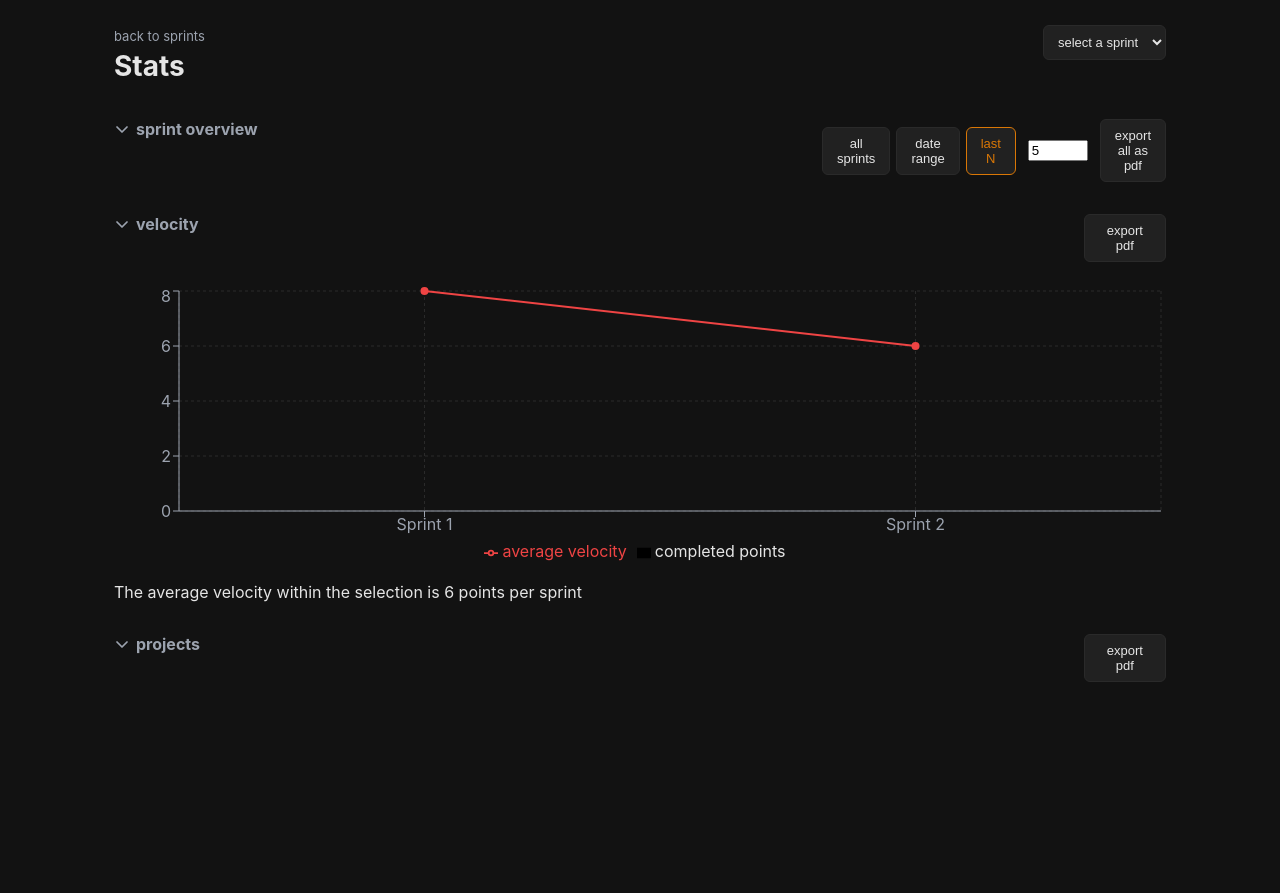
Test: stats page › wires fetched sprint stats and complexity data into sections
Select "Sprint 1" in the dropdown: (1104, 42) [1043,25,1166,60]
(page scrolled)
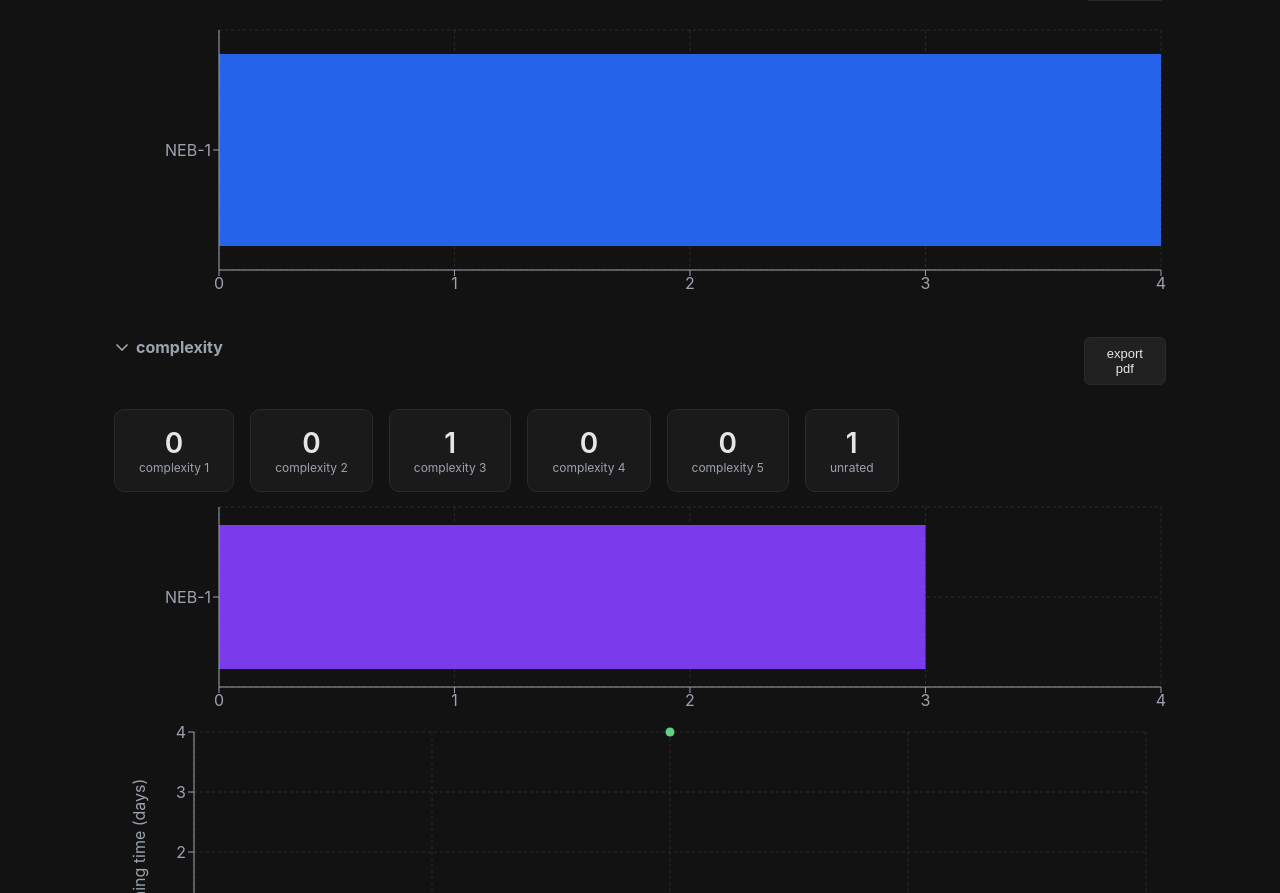
Now the heading "Complexity" is shown, box [136,337,223,357]
Now the 1st text "1" is shown, box [444,426,456,460]
